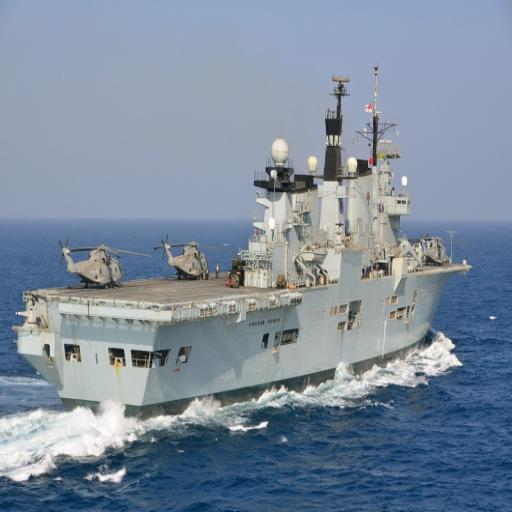Portanaves: (11, 59, 477, 424)
